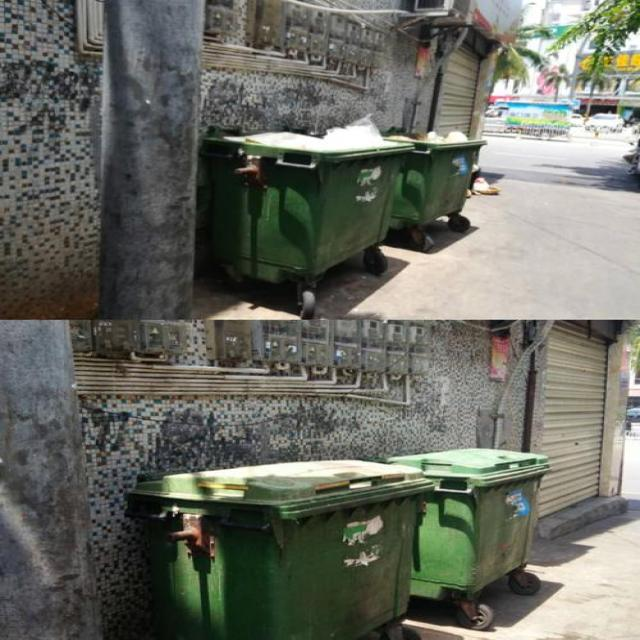garbage_bin: (123, 457, 434, 639), (388, 448, 550, 600)
overflow: (201, 114, 411, 282), (385, 130, 485, 228)
